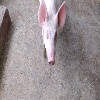heo: (36, 1, 68, 67)
